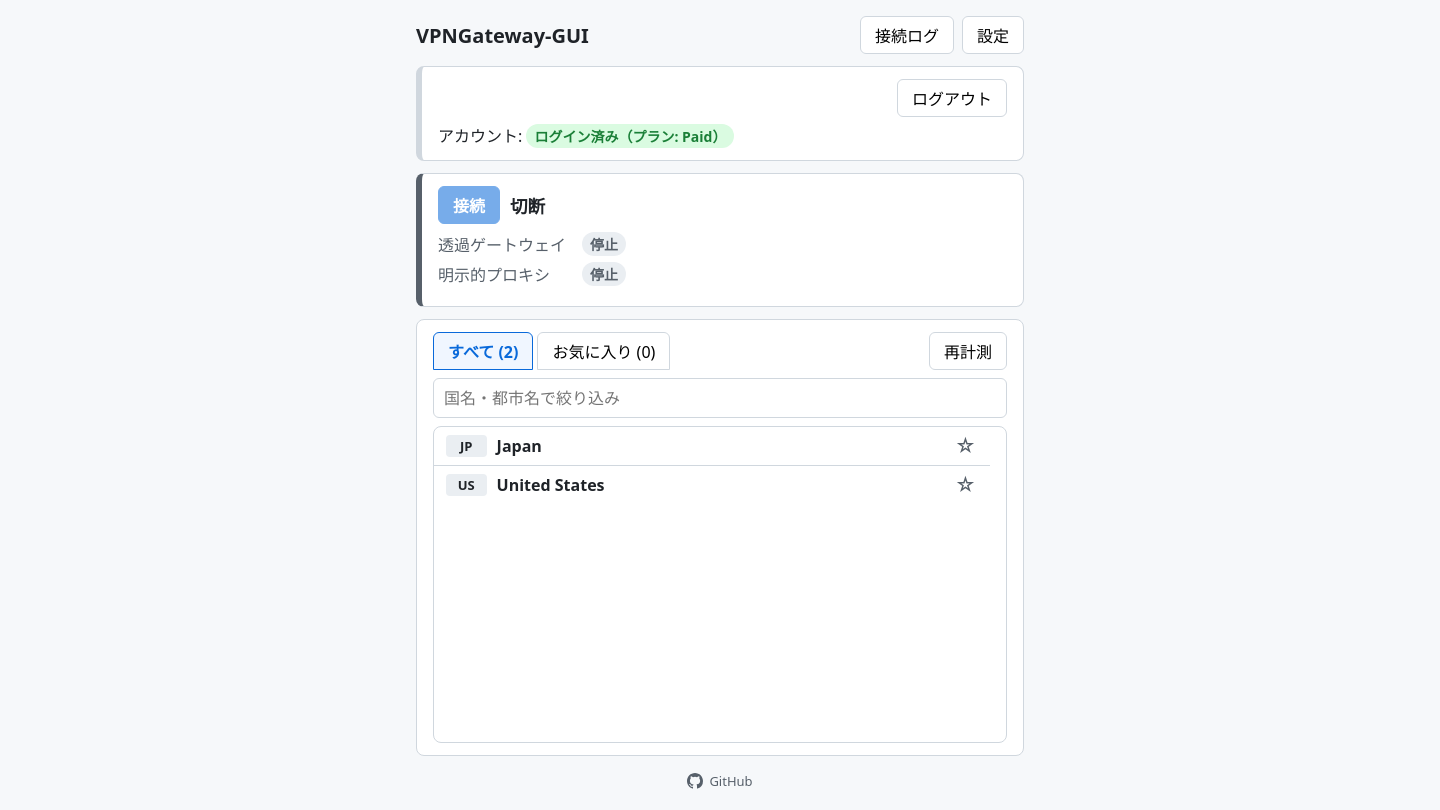
Test: App（プロバイダの機能差・プラン制限） › ログアウト › 確認のうえログアウトし、状態を再取得する。確認で拒否したら何もしない
Click the button "ログアウト". click: [952, 98]
box: [897,79,1007,117]
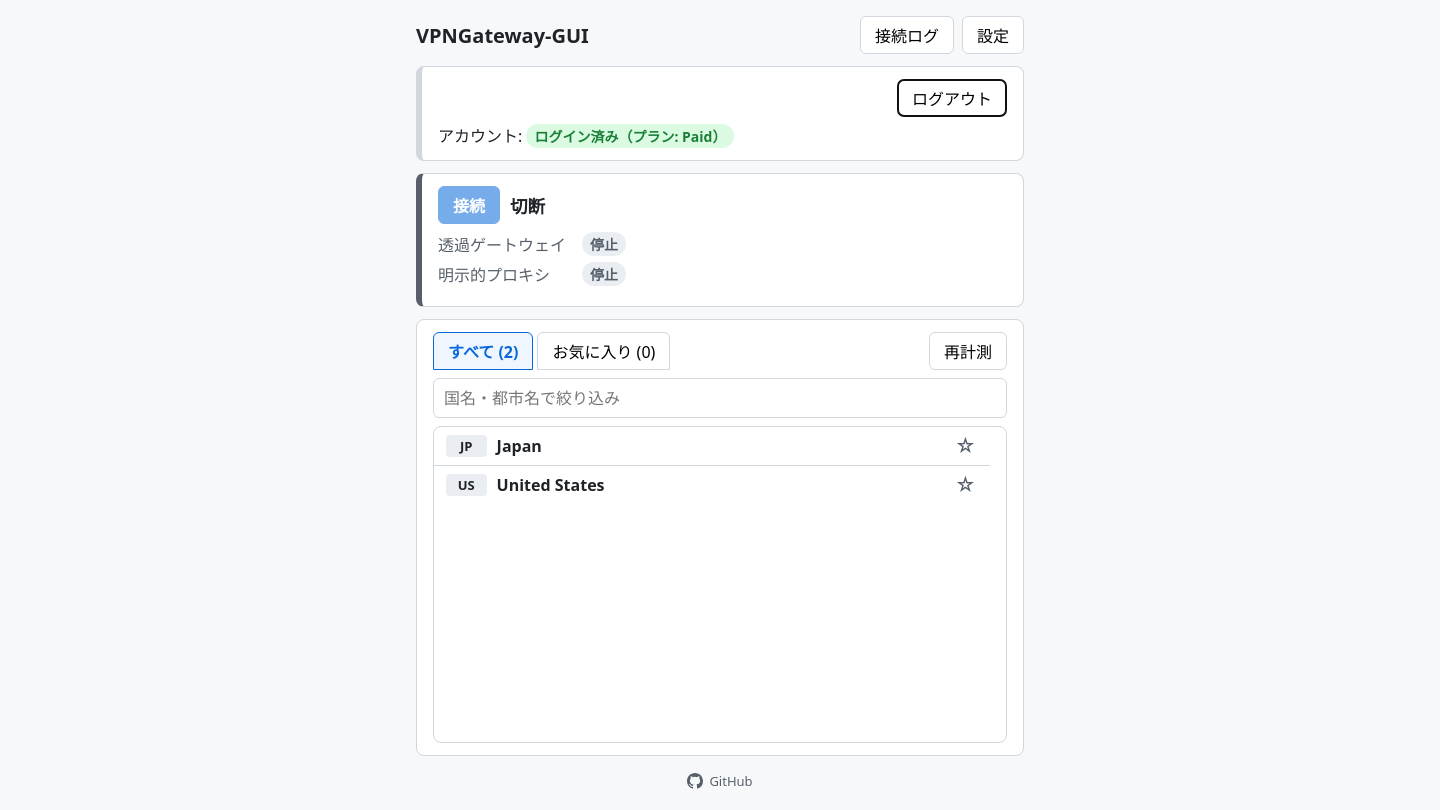
Click the button "ログアウト". click: [952, 98]
box: [897,79,1007,117]
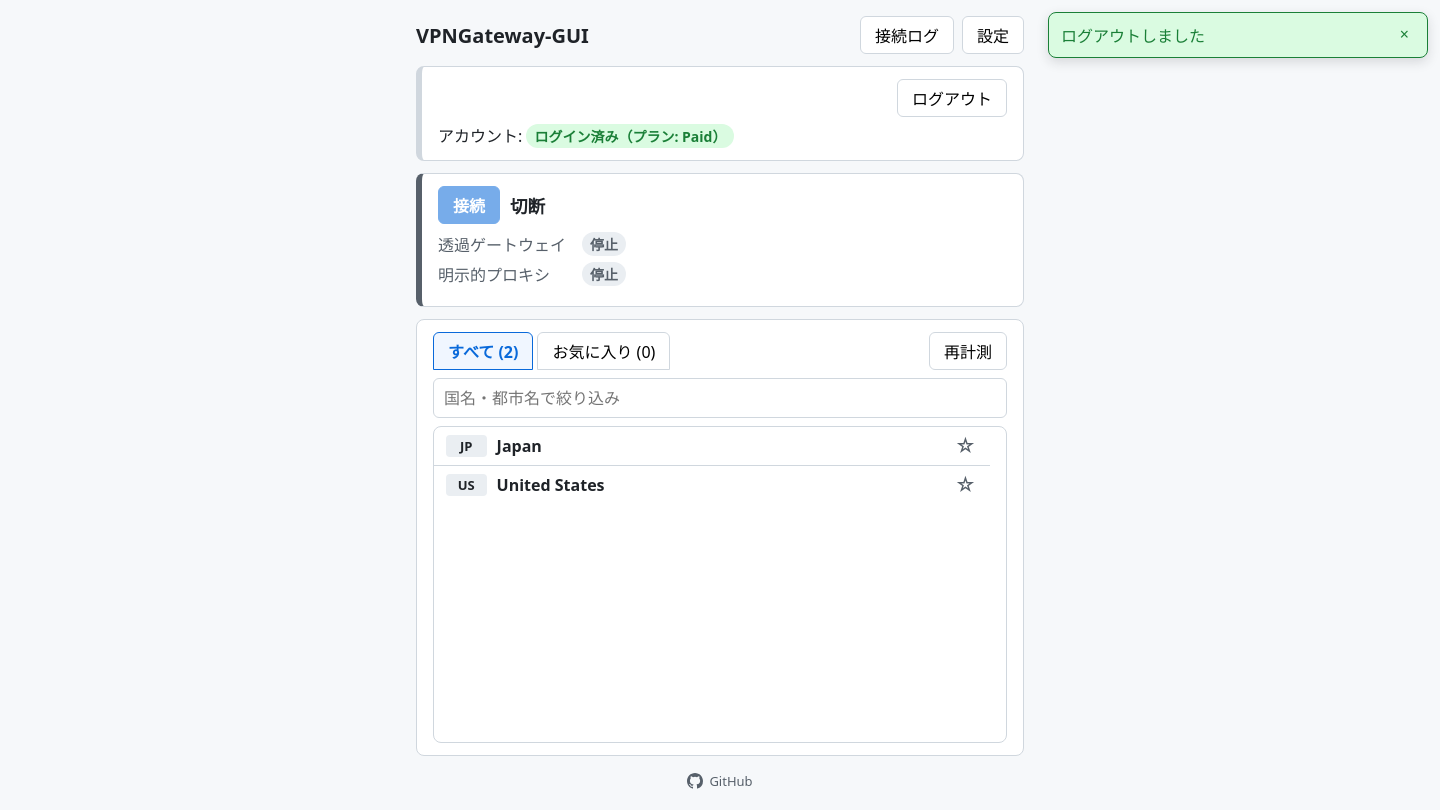
expect the text "ログアウトしました" is shown: met, box [1061,25,1205,47]
